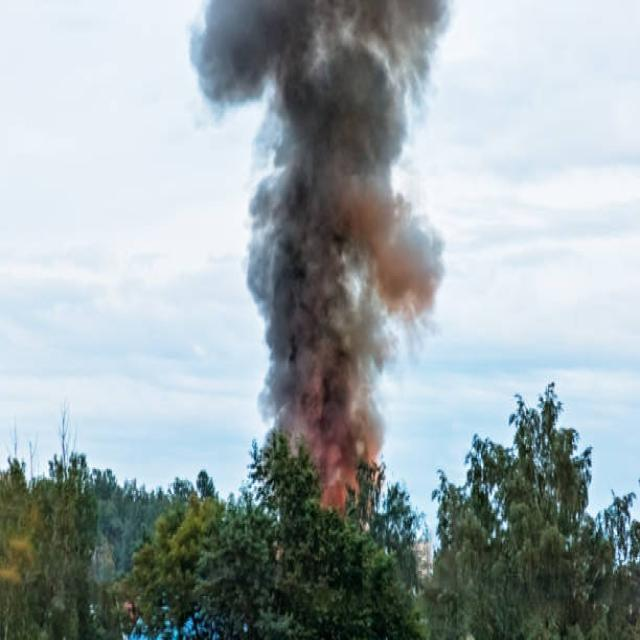Fire: (334, 480, 384, 518)
Smoke: (188, 0, 446, 518)
